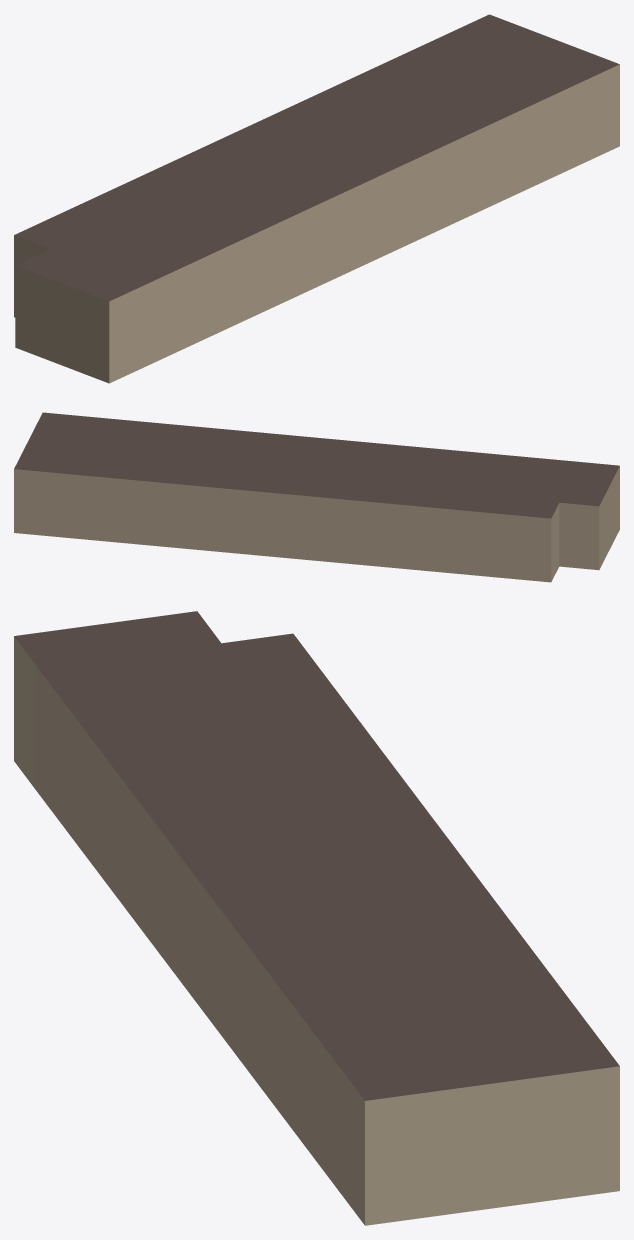
The picture shows the model from 3 angles, top to bottom: view 1: azimuth 30°, elevation 25°; view 2: azimuth 150°, elevation 25°; view 3: azimuth 270°, elevation 25°; orthographic projection. The views are drawn at different scales.
Parts seen in each view (by area): view 1: HP-w1376988749; view 2: HP-w1376988749; view 3: HP-w1376988749.
Part boxes in pixels (box(x1,y1,x2,y2)): HP-w1376988749: box(14, 14, 619, 383); HP-w1376988749: box(14, 412, 619, 582); HP-w1376988749: box(14, 611, 619, 1225).
Size of the model in its own units: 50.47 by 6 by 26.39.
